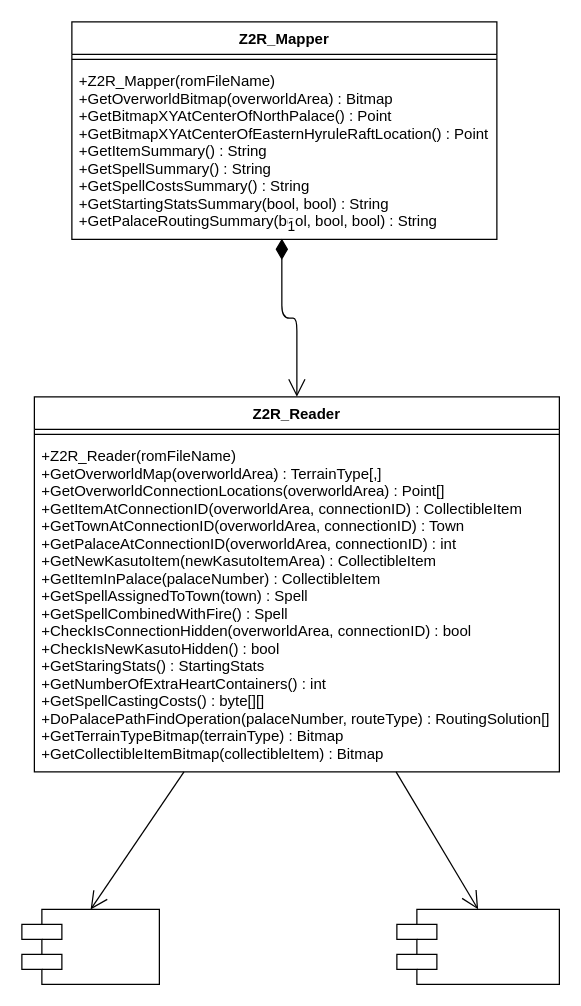
The diagram is 581 pixels wide and 1006 high, and some of its shapes have lost their labels. The box of each missing label's shape, as (x1, y1, x2, y2) in pixels:
Palace Routing: (396, 908, 559, 984)
ROM Utils: (21, 908, 159, 984)
